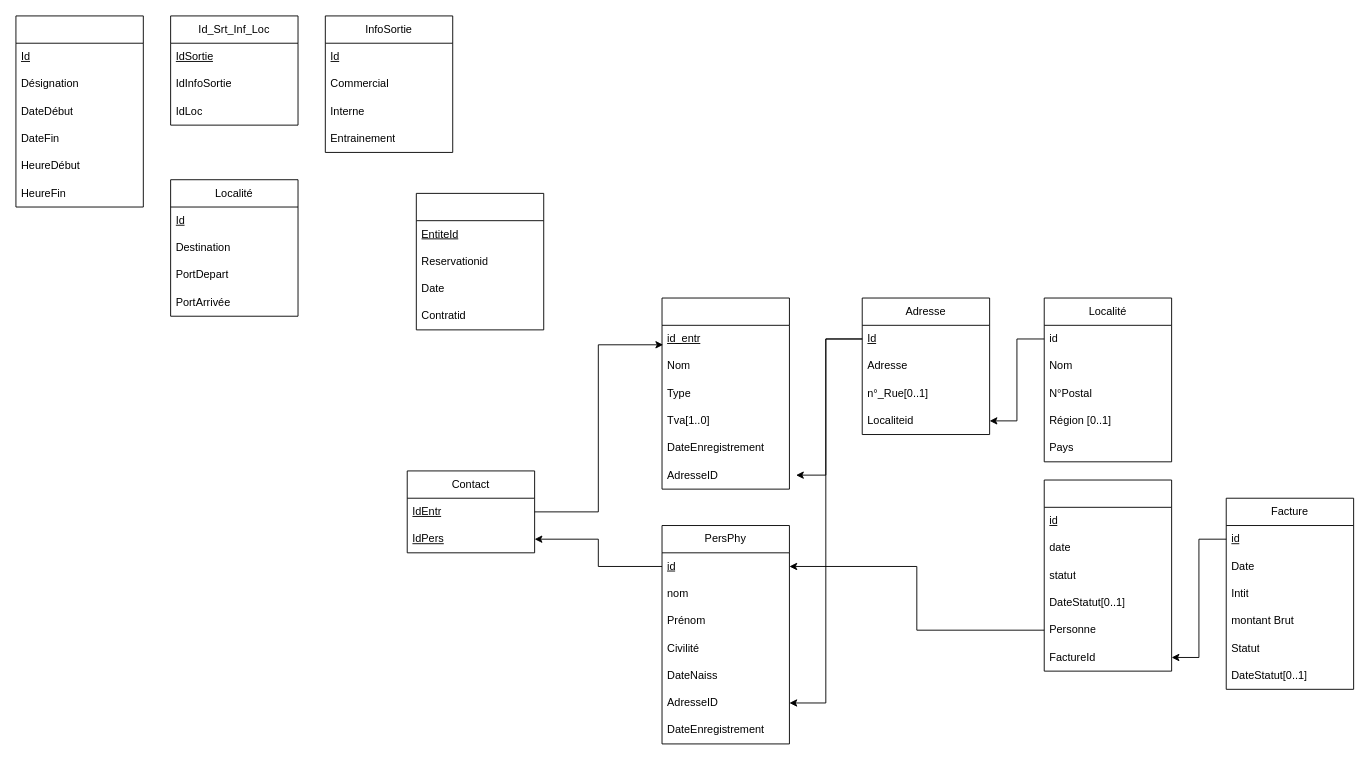
Some shapes in this 1370 by 760 pixel diagram are drawn without their labels. Here are the shapes that lost their labels. From the top down, the box of each, then its label:
(15, 15, 143, 207): Sorties
(415, 192, 544, 330): Entité
(661, 297, 789, 489): Entreprise
(1043, 479, 1172, 671): Contrat
